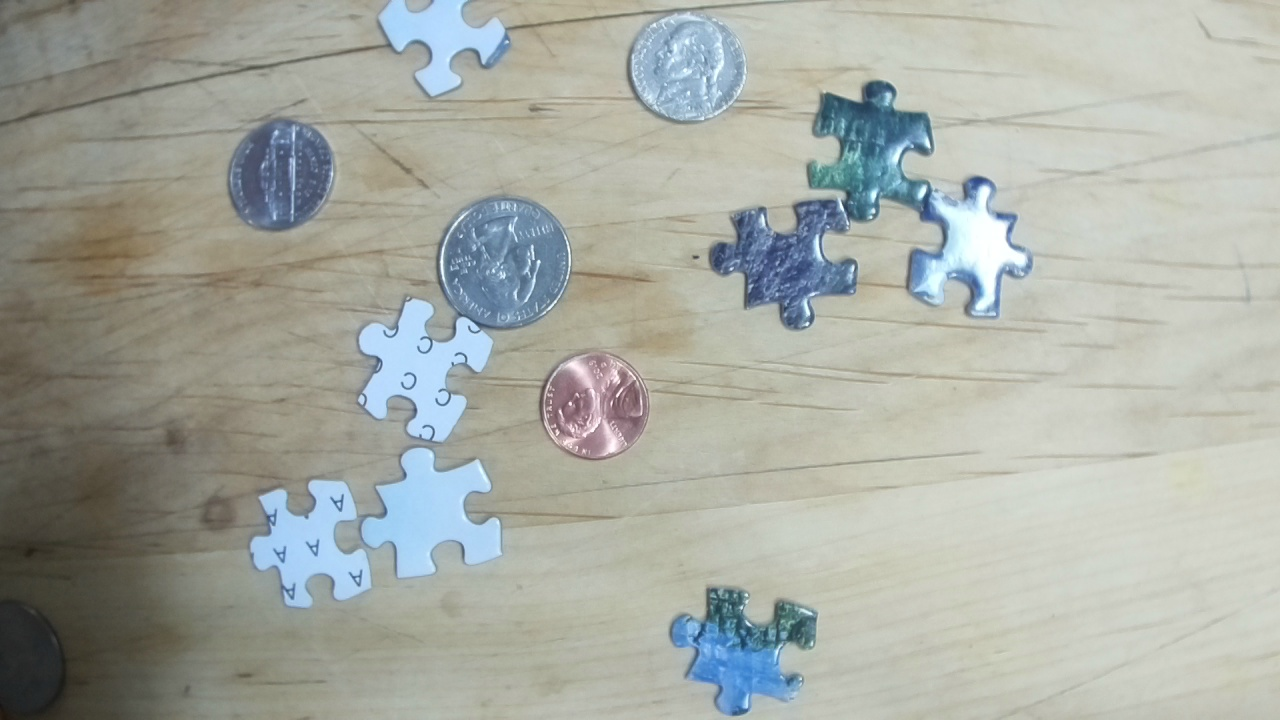nickel: (625, 12, 748, 125), (226, 118, 338, 231)
penny: (538, 350, 652, 462)
quarter: (434, 196, 574, 332)
